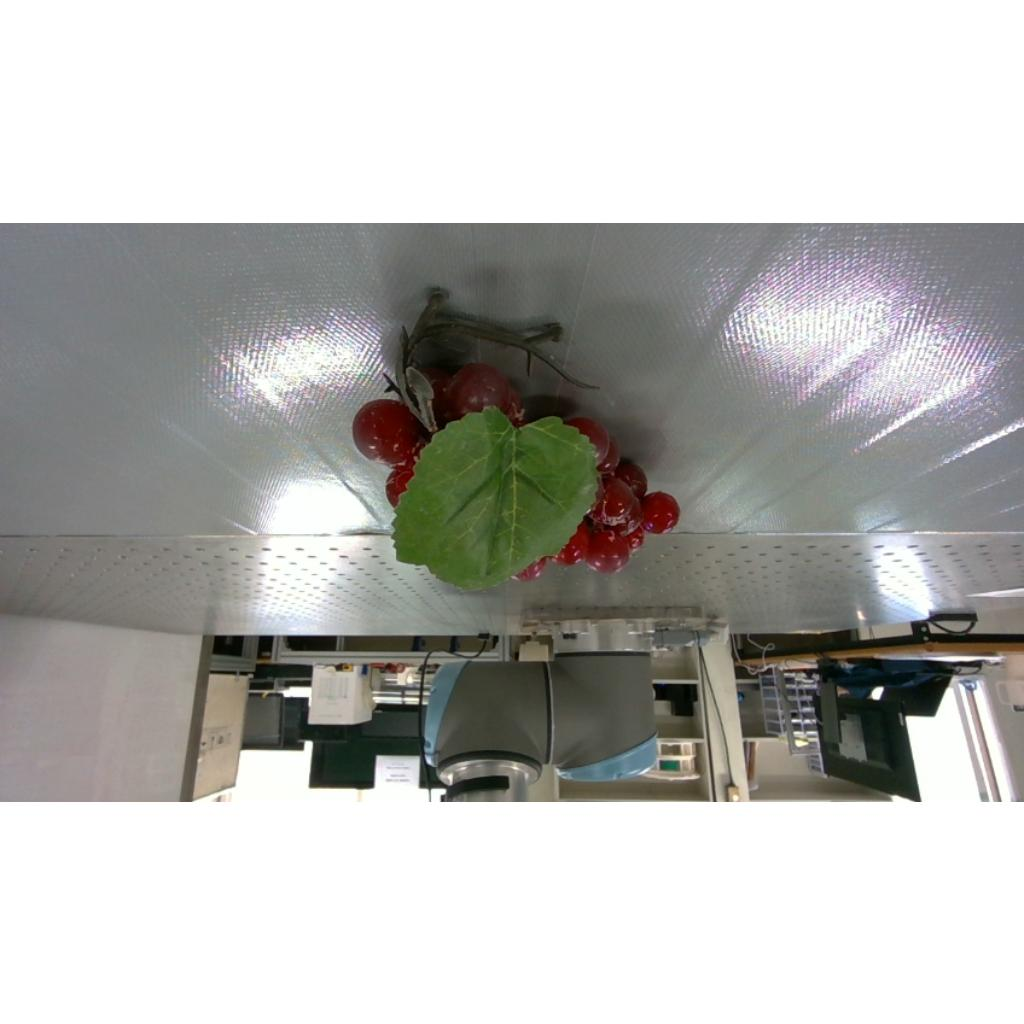grape: (352, 290, 680, 588)
